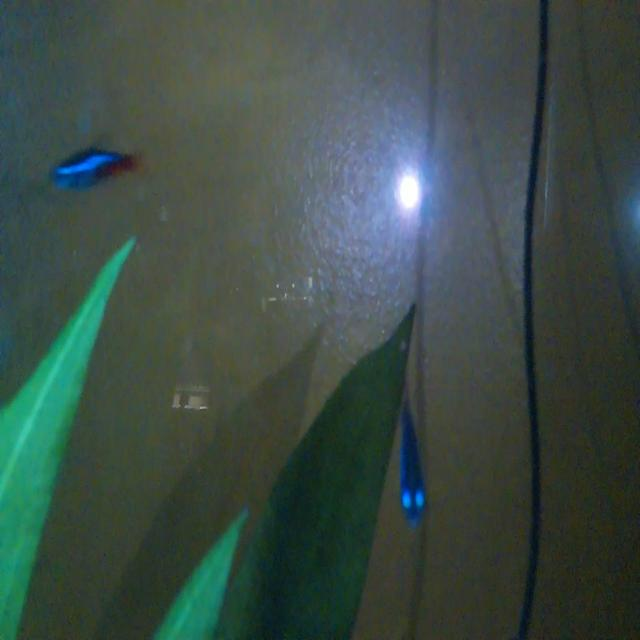fish: (388, 373, 442, 530), (36, 141, 153, 198)
